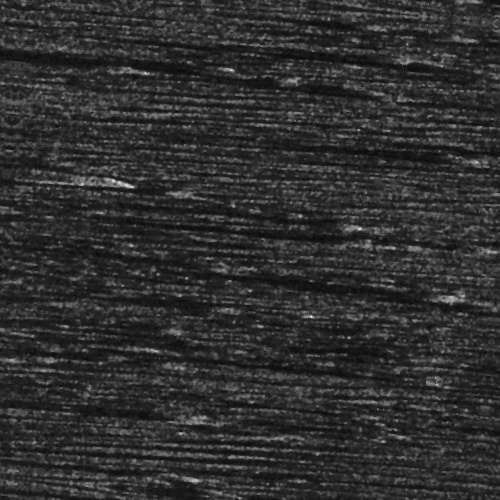object: (321, 73, 456, 88), (163, 68, 278, 79), (178, 261, 251, 272), (0, 5, 89, 14), (422, 267, 463, 286), (433, 44, 500, 55), (92, 76, 165, 85), (358, 40, 441, 47), (123, 366, 176, 375), (363, 496, 468, 500), (64, 187, 95, 198), (162, 417, 225, 422), (330, 209, 371, 216), (216, 307, 257, 312), (406, 358, 447, 363), (422, 134, 453, 139), (351, 229, 382, 234), (335, 229, 366, 234), (189, 477, 220, 482), (422, 15, 463, 18), (492, 80, 500, 85)
shadow: (0, 73, 389, 88), (167, 267, 442, 286), (125, 44, 469, 55), (0, 68, 220, 79), (0, 261, 214, 272), (0, 496, 416, 500), (138, 209, 350, 216), (69, 229, 350, 234), (86, 229, 366, 234), (149, 358, 426, 363), (161, 134, 437, 139), (0, 76, 128, 85), (0, 477, 204, 482), (259, 40, 400, 47), (4, 187, 79, 198), (47, 417, 193, 422), (92, 307, 236, 312), (75, 366, 149, 375), (234, 15, 443, 18), (0, 5, 37, 14), (400, 19, 500, 22), (456, 80, 500, 85)
